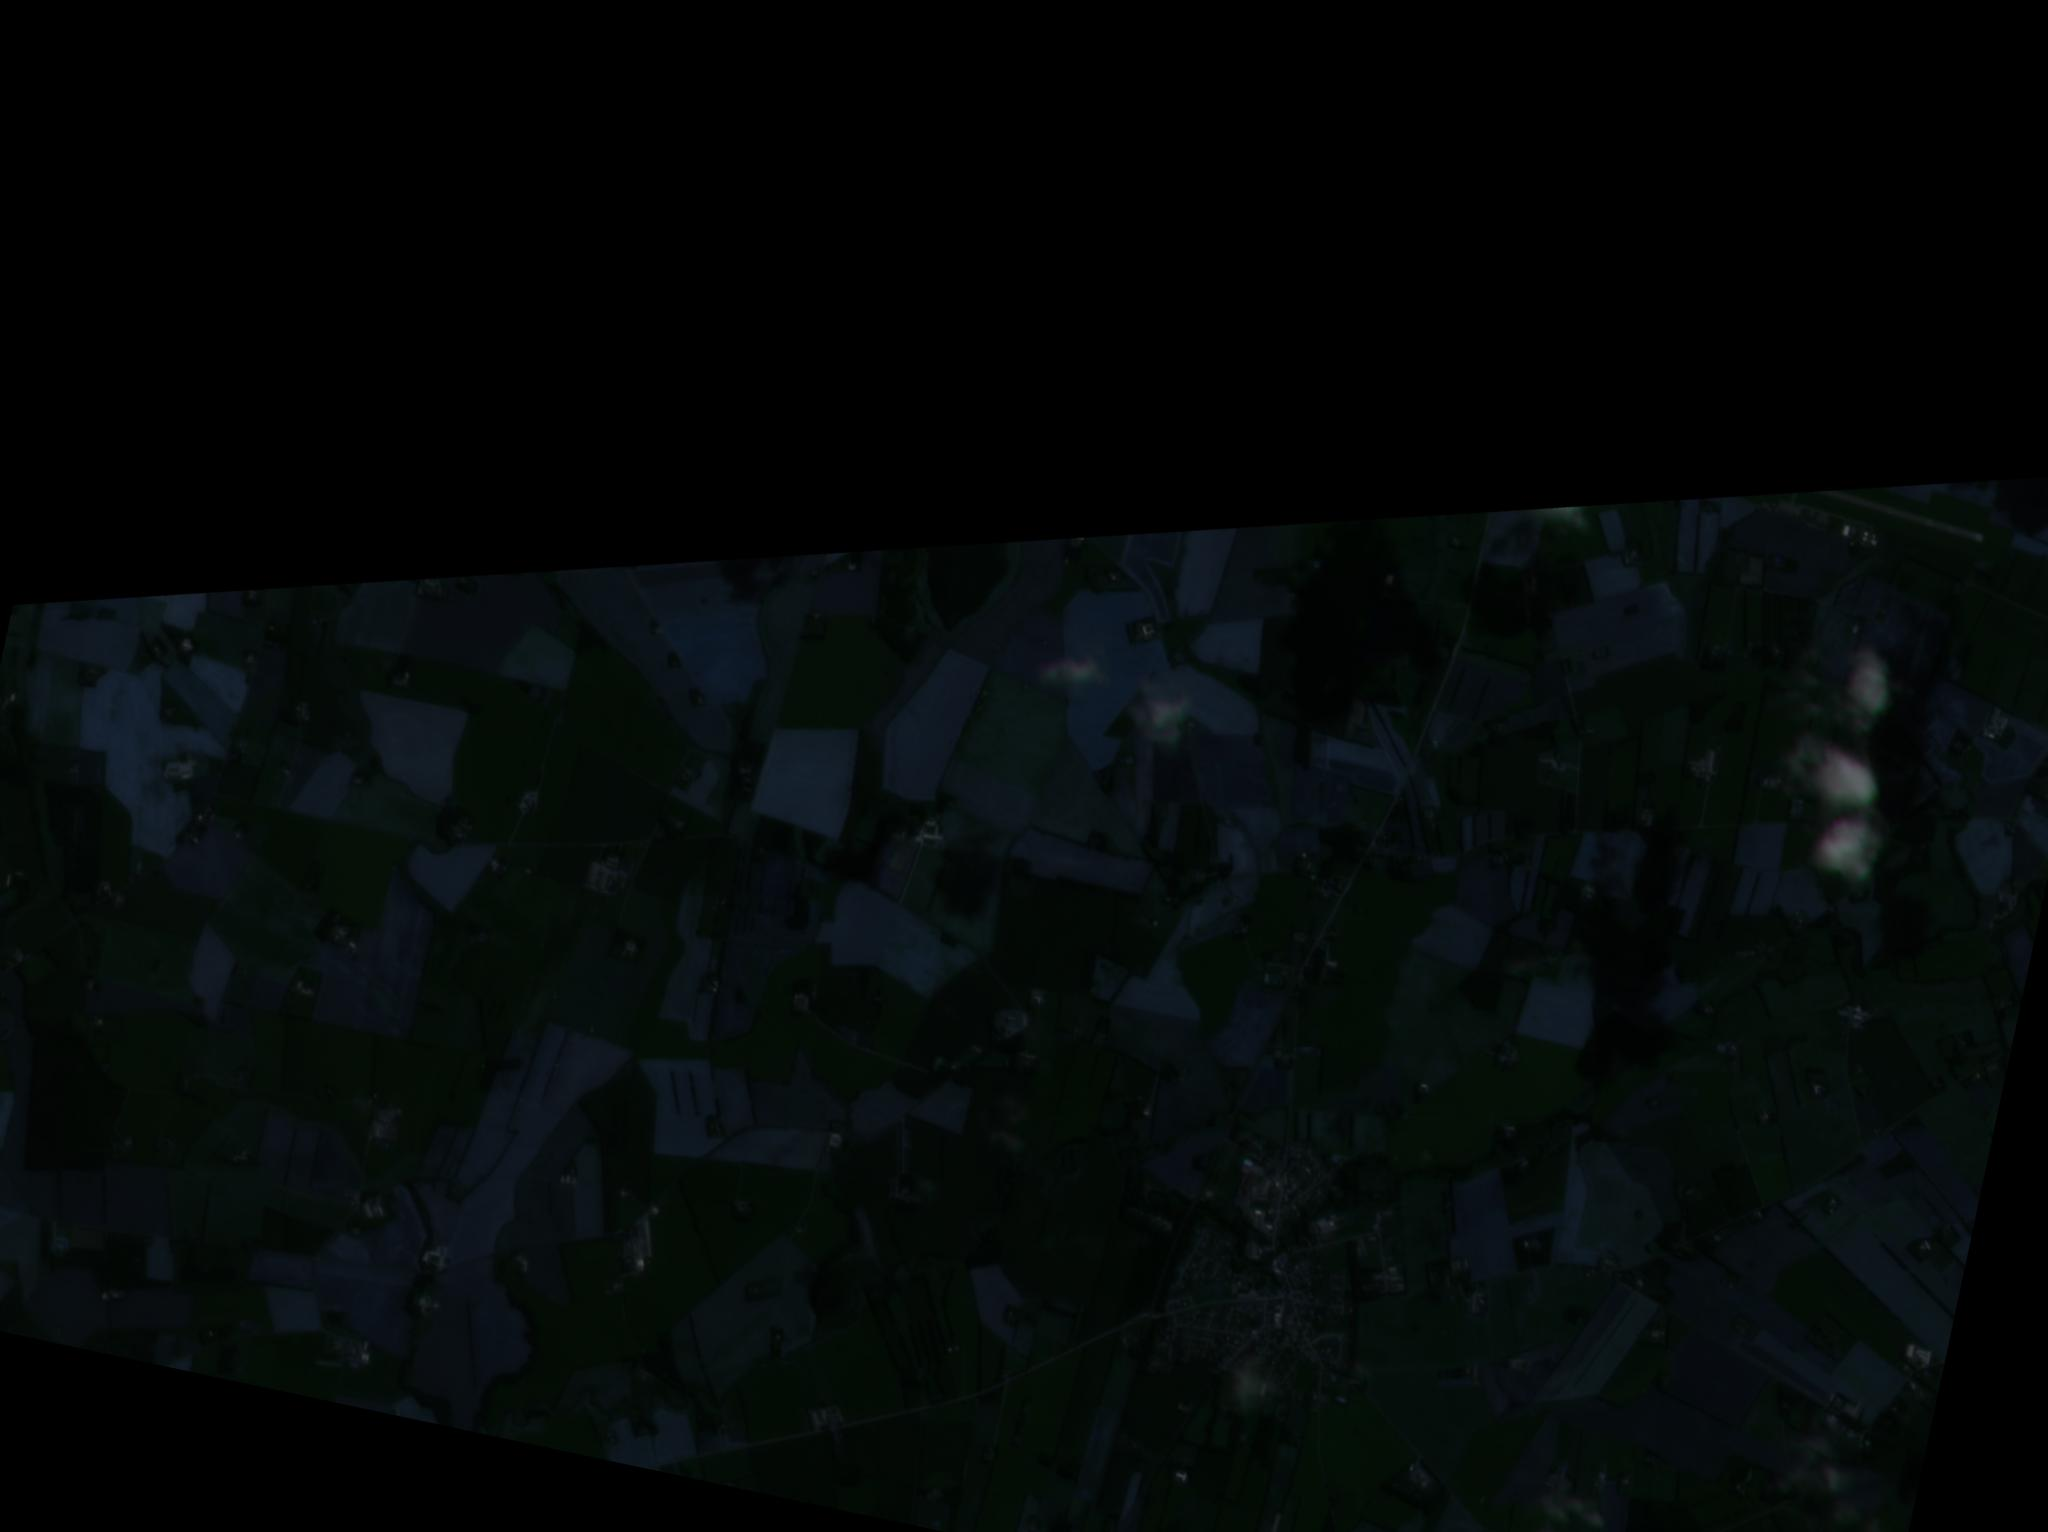ship: (1786, 718, 1903, 809), (1810, 803, 1894, 890), (1823, 631, 1877, 716)
